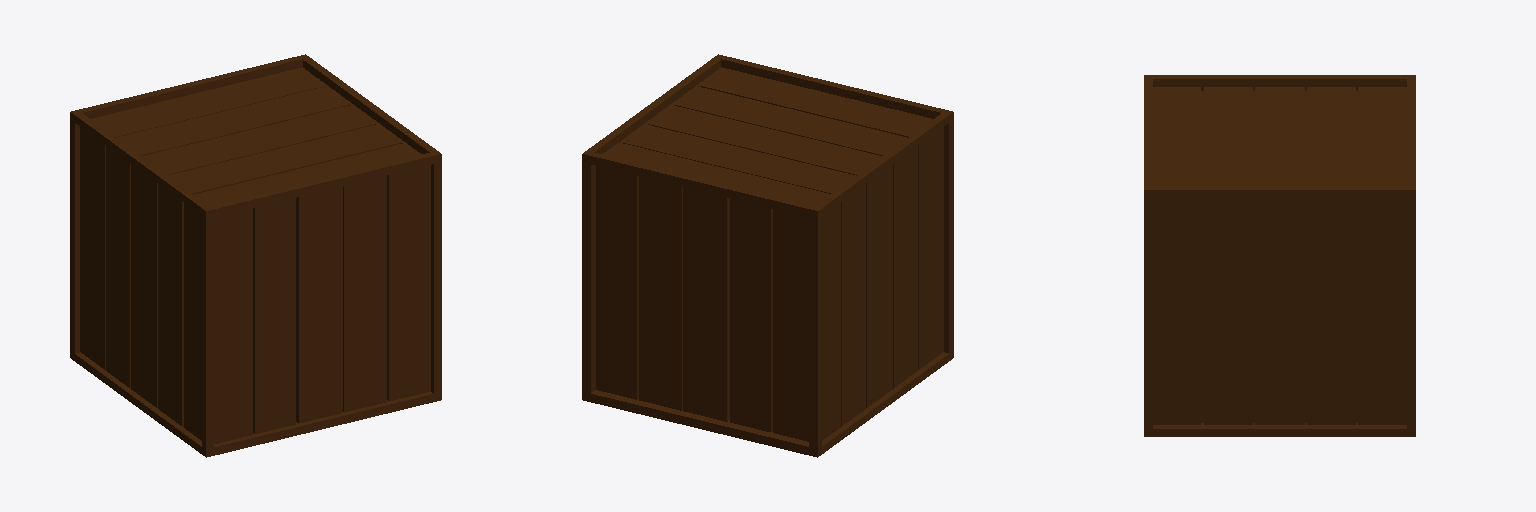
The model's file is Crate.obj.
The picture shows the model from 3 angles: view 1: azimuth 30°, elevation 25°; view 2: azimuth 150°, elevation 25°; view 3: azimuth 270°, elevation 25°; orthographic projection.
Parts seen in each view (by area): view 1: Cube_Cube.001; view 2: Cube_Cube.001; view 3: Cube_Cube.001.
Boxes of the visible parts, x1=… form: Cube_Cube.001: x1=70, y1=54, x2=441, y2=457; Cube_Cube.001: x1=582, y1=54, x2=953, y2=457; Cube_Cube.001: x1=1144, y1=75, x2=1415, y2=436.
Size of the model in its own units: 1 by 1 by 1.